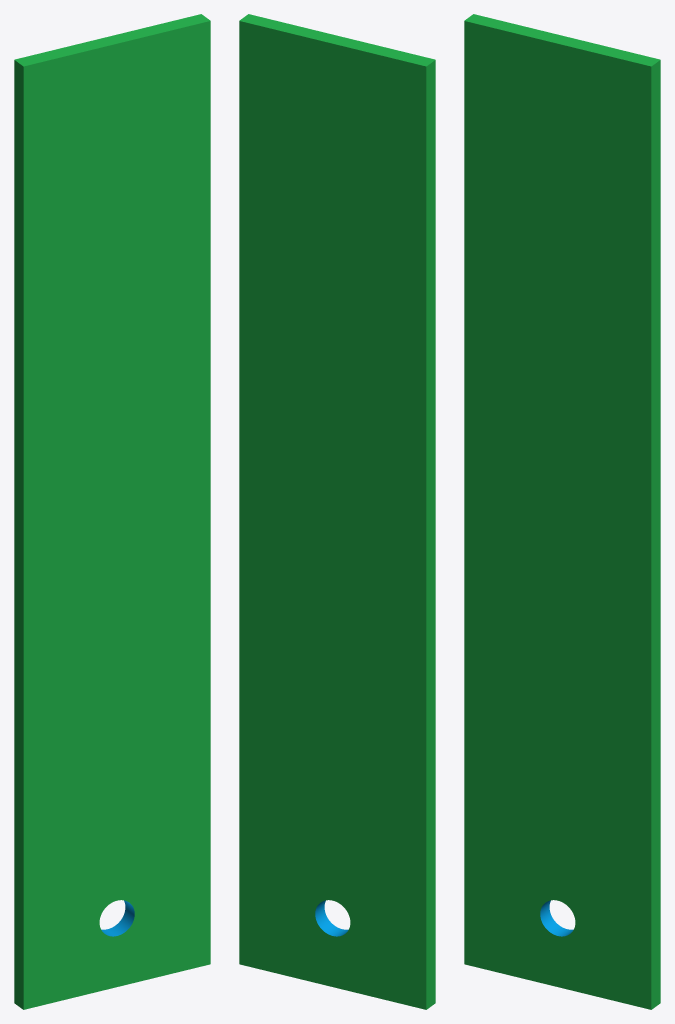
File: Minigolf-obj.obj
3 views of the same model, side by side, from view 1: azimuth 30°, elevation 25°; view 2: azimuth 150°, elevation 25°; view 3: azimuth 330°, elevation 25° (orthographic).
Parts seen in each view (by area): view 1: Object.1; view 2: Object.1; view 3: Object.1.
Part boxes in pixels (<box>): Object.1: <box>14,14,210,1009</box>; Object.1: <box>239,14,435,1009</box>; Object.1: <box>464,14,660,1009</box>.
Bounding box in the file's own units: 75 × 361 × 6.5.
